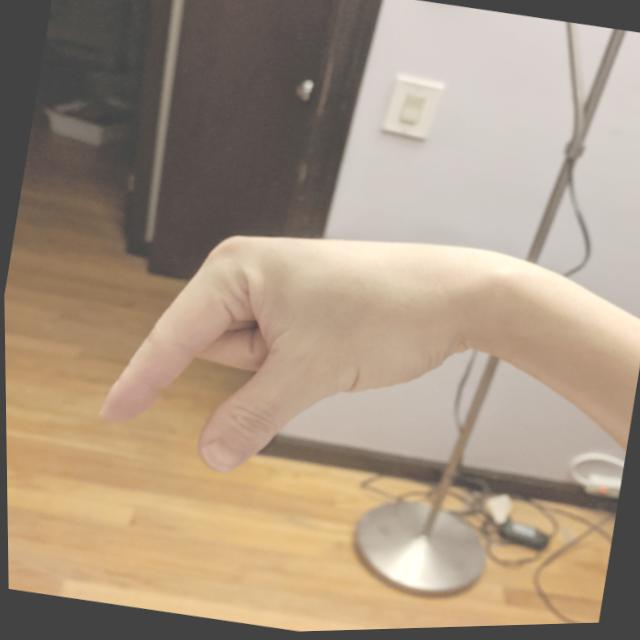Q: (77, 180, 498, 525)
